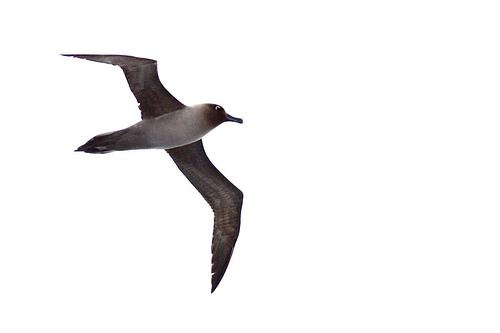bird: (57, 52, 245, 294)
